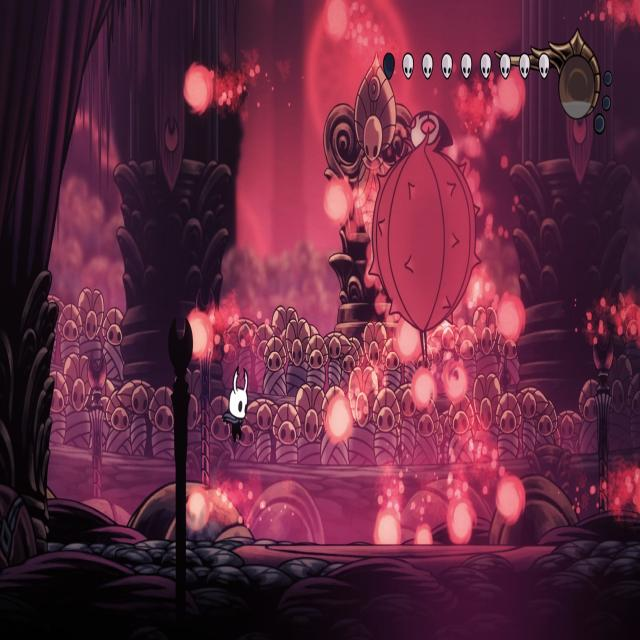Player: (221, 365, 251, 448)
Pufferfish: (364, 109, 484, 368)
Tiny Fireballs: (496, 68, 524, 122), (184, 66, 214, 116), (495, 474, 524, 524), (183, 310, 211, 360), (446, 498, 474, 545), (324, 179, 352, 226), (496, 294, 523, 342), (326, 396, 353, 443), (394, 318, 420, 366), (443, 359, 468, 402), (187, 488, 210, 533), (323, 0, 347, 42), (412, 368, 436, 409), (373, 511, 400, 546), (416, 526, 432, 545), (634, 467, 640, 517)
